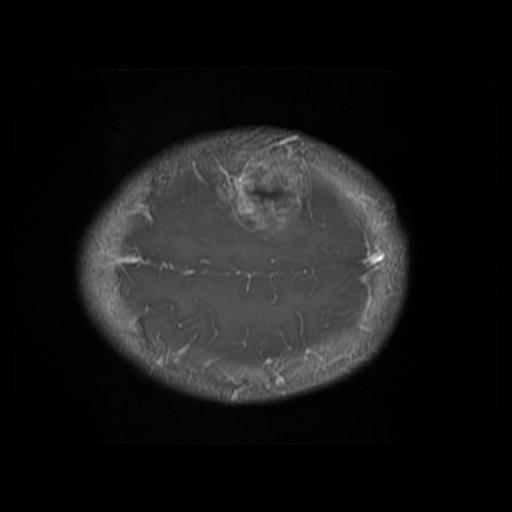glioma: (229, 161, 303, 235)
